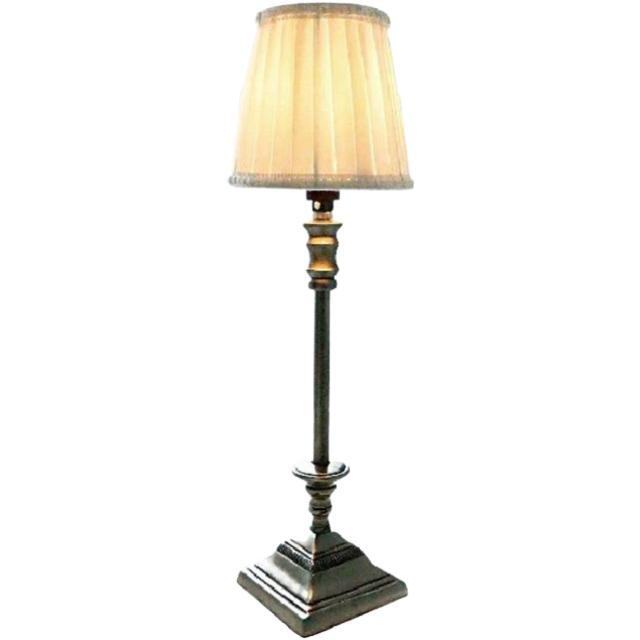lamp: (230, 5, 413, 640)
